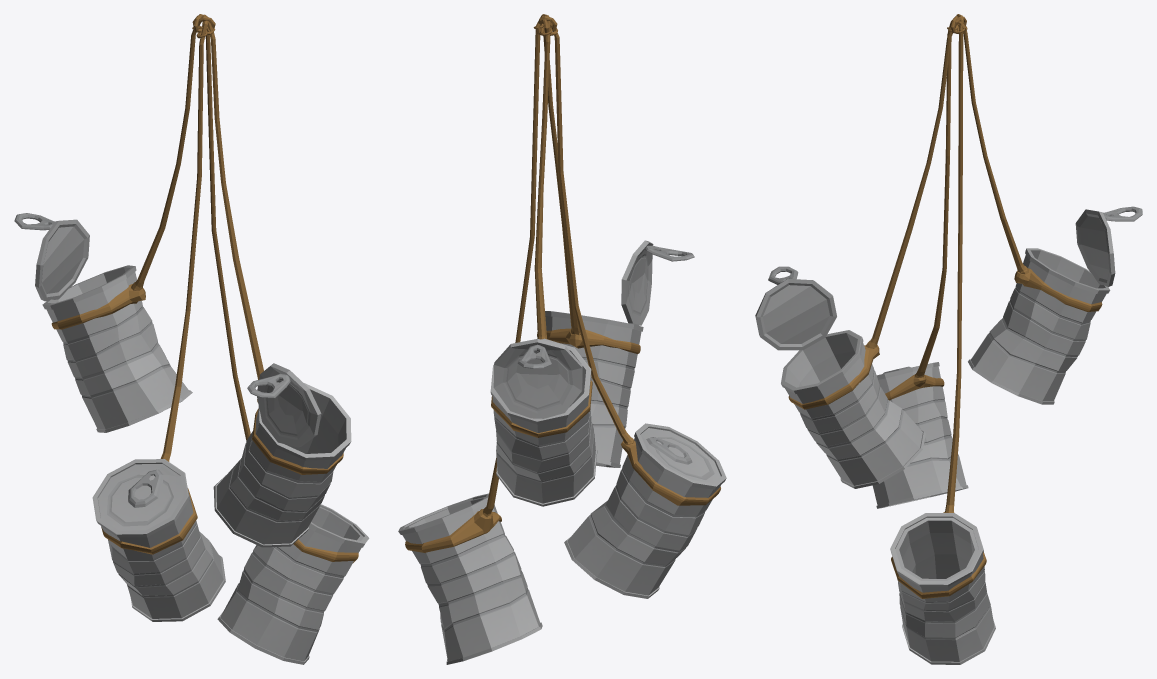
Rendered from cans_on_twine.glb.
3 renders of one model, left to right at view 1: azimuth 30°, elevation 25°; view 2: azimuth 150°, elevation 25°; view 3: azimuth 270°, elevation 25°, orthographic. The views are drawn at different scales.
Visible parts, largest first — view 1: can_1_closed, can_3_opened, can_2_opened, can_4_opened, can_4_lid, can_3_lid, twine_3, twine_1, twine_4, twine_2, can_3_holder, can_1_holder (+3 smaller); view 2: can_1_closed, can_2_opened, can_3_opened, can_4_opened, can_3_lid, twine_3, twine_4, twine_2, can_4_lid, can_2_holder, twine_1, can_1_holder (+3 smaller); view 3: can_4_opened, can_2_opened, can_3_opened, can_1_closed, can_4_lid, twine_4, can_3_lid, twine_1, twine_3, twine_2, can_3_holder, can_4_holder (+2 smaller).
Part boxes in pixels (box(x1,y1,x2,y2)): can_1_closed: box(92, 459, 225, 621); can_3_opened: box(42, 265, 192, 432); can_2_opened: box(217, 504, 369, 664); can_4_opened: box(213, 383, 351, 547); can_4_lid: box(257, 363, 321, 447); can_3_lid: box(35, 219, 89, 301); twine_3: box(160, 20, 208, 461); twine_1: box(192, 14, 263, 379); twine_4: box(193, 14, 250, 440); twine_2: box(131, 16, 215, 290); can_3_holder: box(51, 284, 145, 329); can_1_holder: box(101, 488, 197, 554); can_1_closed: box(564, 423, 726, 598); can_2_opened: box(398, 493, 542, 664); can_3_opened: box(490, 338, 597, 506); can_4_opened: box(545, 311, 643, 467); can_3_lid: box(493, 338, 582, 418); twine_3: box(535, 22, 634, 444); twine_4: box(483, 16, 557, 517); twine_2: box(534, 14, 552, 339); can_4_lid: box(621, 240, 653, 325); can_2_holder: box(405, 509, 501, 552); twine_1: box(541, 15, 580, 335); can_1_holder: box(621, 440, 720, 505); can_4_opened: box(781, 330, 925, 488); can_2_opened: box(890, 513, 995, 664); can_3_opened: box(968, 248, 1110, 404); can_1_closed: box(872, 362, 968, 508); can_4_lid: box(755, 278, 836, 350); twine_4: box(945, 14, 964, 512); can_3_lid: box(1075, 209, 1115, 286); twine_1: box(866, 16, 966, 348); twine_3: box(914, 20, 965, 377); twine_2: box(950, 16, 1028, 274); can_3_holder: box(1014, 268, 1102, 311); can_4_holder: box(788, 345, 879, 409).
Bounding box in the file's own units: 0.3566 × 0.7837 × 0.4526.
Materials: 1 (1 with a texture image).
